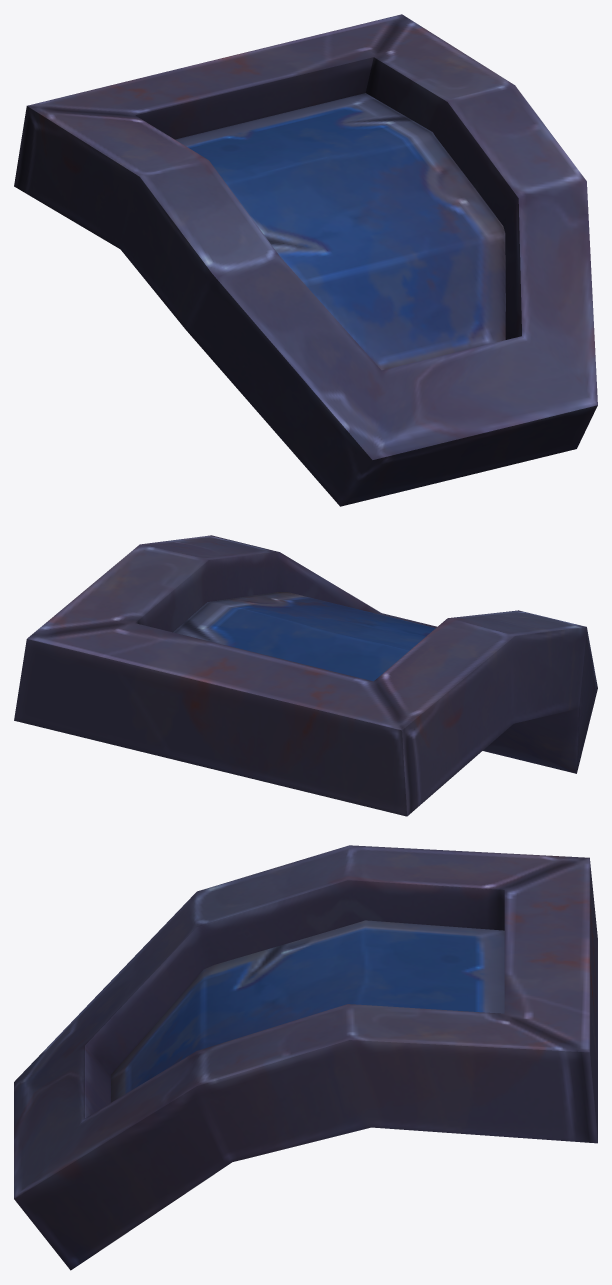
Rendered from armor_blue_01.fbx.
The picture shows the model from 3 angles, top to bottom: view 1: azimuth 30°, elevation 25°; view 2: azimuth 150°, elevation 25°; view 3: azimuth 270°, elevation 25°; orthographic projection. The views are drawn at different scales.
Parts seen in each view (by area): view 1: armor_blue_01; view 2: armor_blue_01; view 3: armor_blue_01.
Part boxes in pixels (box(x1,y1,x2,y2)): armor_blue_01: box(14, 14, 597, 506); armor_blue_01: box(14, 535, 597, 816); armor_blue_01: box(14, 845, 597, 1270).
Size of the model in its own units: 0.5827 by 0.3559 by 0.7051.
